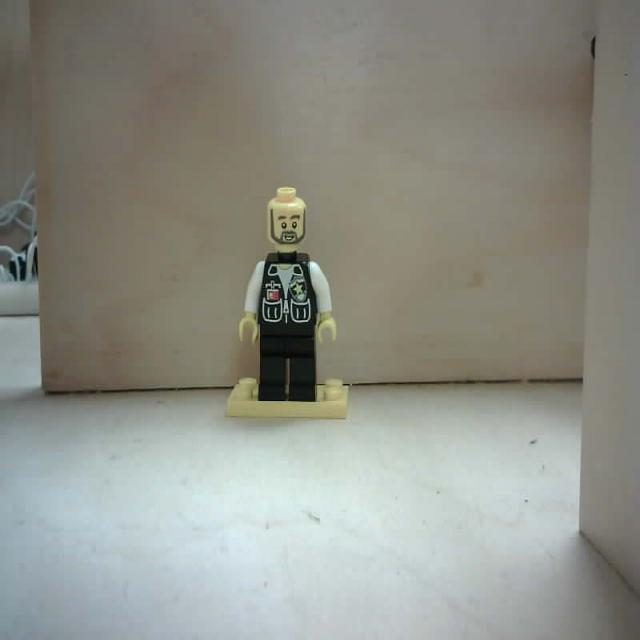Lego-People: (224, 181, 355, 435)
